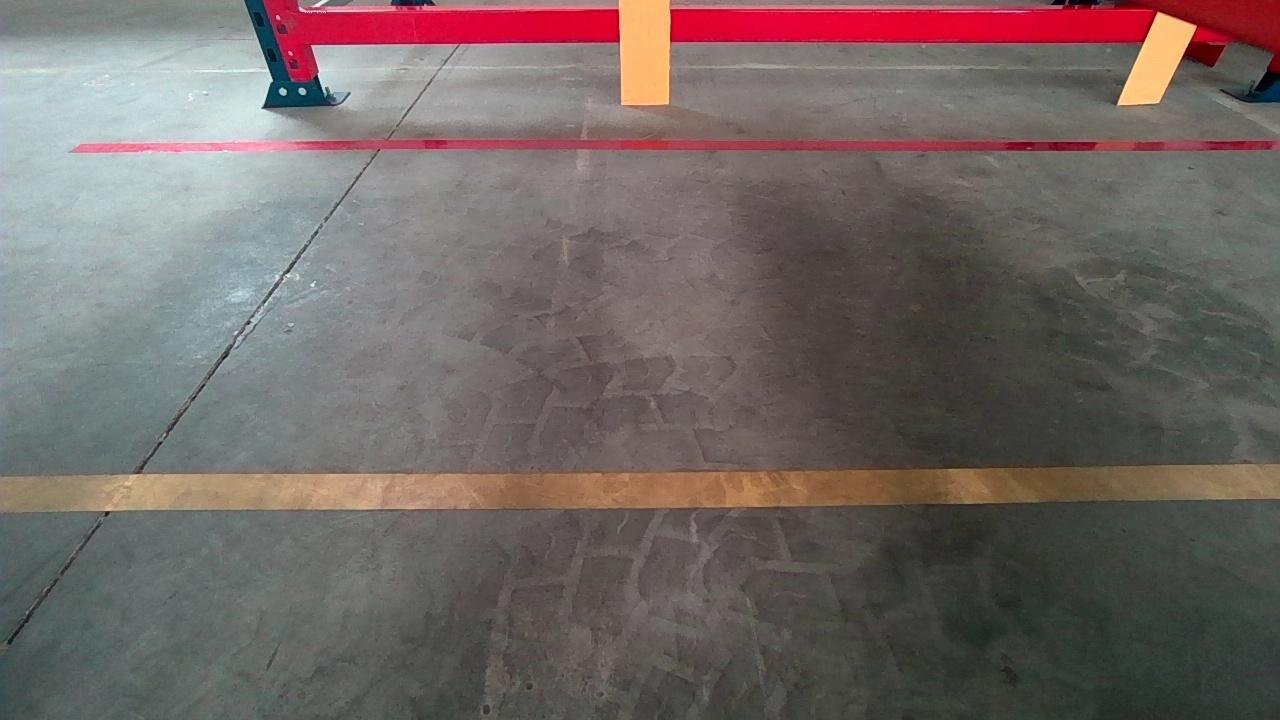h_rack: (300, 12, 1232, 45)
orange_strip: (1117, 11, 1201, 101), (619, 0, 672, 103)
red_line: (67, 140, 1280, 152)
yellow_line: (0, 460, 1280, 516)
